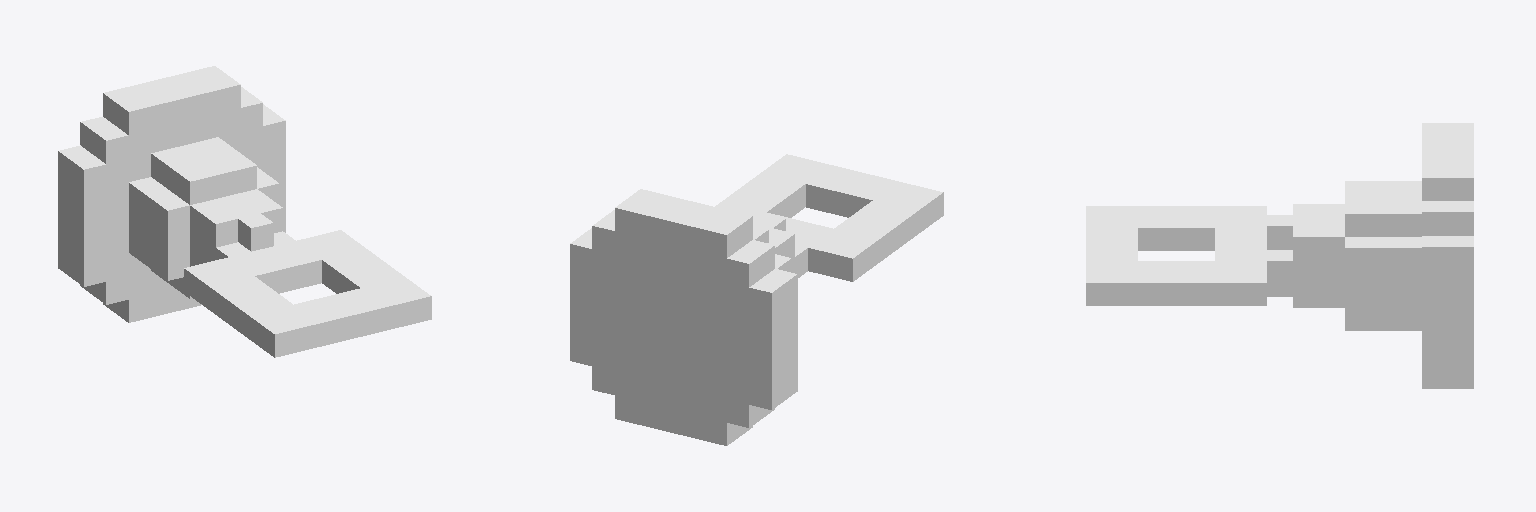
Rendered from Support3.obj.
The picture shows the model from 3 angles: view 1: azimuth 30°, elevation 25°; view 2: azimuth 150°, elevation 25°; view 3: azimuth 270°, elevation 25°; orthographic projection.
Size of the model in its own units: 9 by 9 by 15.